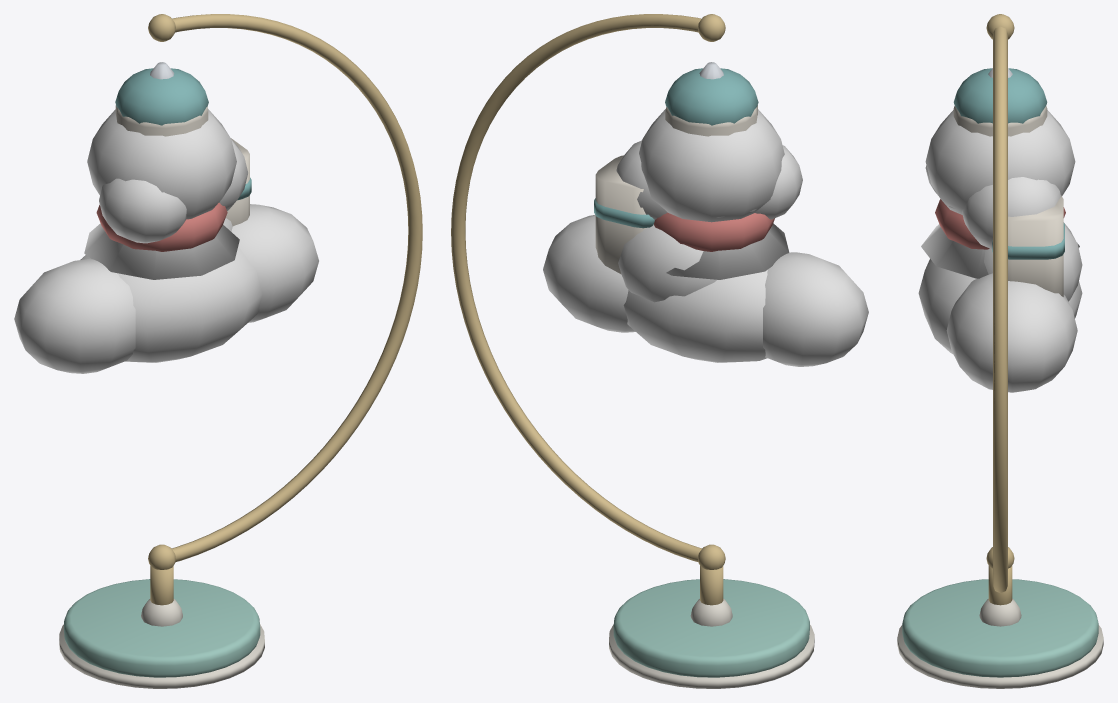
File: GloboKit.fbx
3 views of the same model, side by side, from view 1: azimuth 30°, elevation 25°; view 2: azimuth 150°, elevation 25°; view 3: azimuth 270°, elevation 25° (orthographic).
Parts seen in each view (by area): view 1: Pedestal, Mini_Nuvem, Mini_Arvore, Mini_Predio, Mini_Pinheiro, Mini_Cogumelo; view 2: Pedestal, Mini_Nuvem, Mini_Arvore, Mini_Predio, Mini_Pinheiro, Mini_Cogumelo; view 3: Pedestal, Mini_Nuvem, Mini_Arvore, Mini_Predio, Mini_Pinheiro, Mini_Cogumelo.
Boxes of the visible parts, box(x1,y1,x2,y2) form: Pedestal: box(59, 14, 422, 688); Mini_Nuvem: box(14, 204, 318, 373); Mini_Arvore: box(87, 109, 247, 243); Mini_Predio: box(115, 68, 251, 226); Mini_Pinheiro: box(84, 62, 239, 279); Mini_Cogumelo: box(96, 203, 227, 251); Pedestal: box(451, 14, 814, 688); Mini_Nuvem: box(543, 215, 868, 366); Mini_Arvore: box(616, 109, 802, 222); Mini_Predio: box(594, 68, 758, 273); Mini_Pinheiro: box(666, 62, 789, 279); Mini_Cogumelo: box(654, 212, 774, 251); Pedestal: box(897, 14, 1103, 688); Mini_Nuvem: box(918, 222, 1082, 392); Mini_Arvore: box(925, 110, 1075, 249); Mini_Predio: box(953, 68, 1064, 296); Mini_Pinheiro: box(921, 68, 1079, 278); Mini_Cogumelo: box(935, 199, 1065, 249).
Size of the model in its own units: 2 by 2.97 by 0.88.
